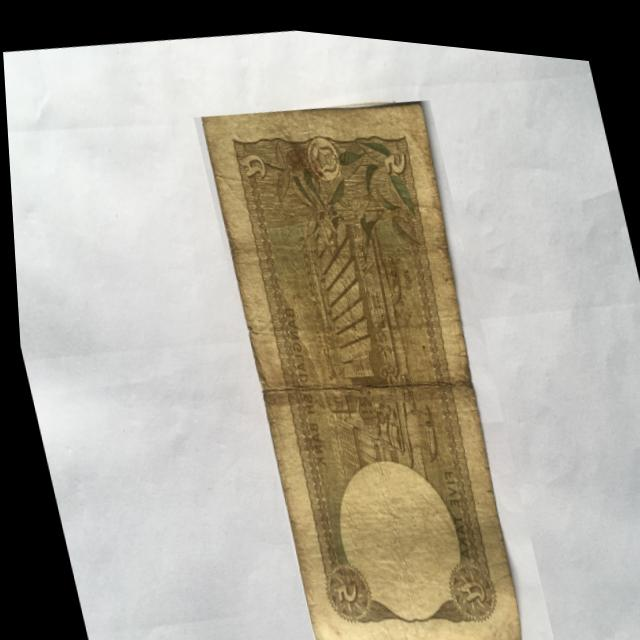Taka: (190, 71, 549, 640)
